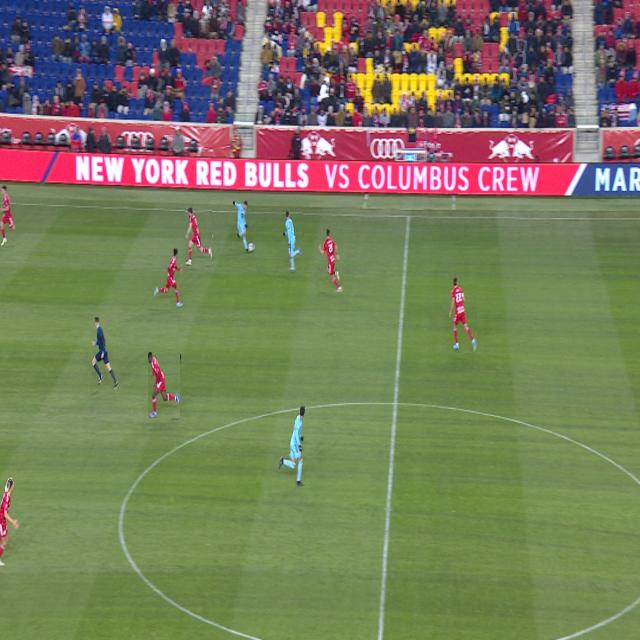football: (249, 241, 254, 252)
player: (449, 278, 477, 353), (279, 407, 305, 486), (149, 353, 180, 418), (154, 248, 183, 307), (0, 478, 19, 566), (318, 229, 343, 292), (186, 207, 212, 266), (283, 211, 303, 271), (0, 185, 15, 246), (233, 201, 250, 254)
referee: (92, 318, 119, 391)
